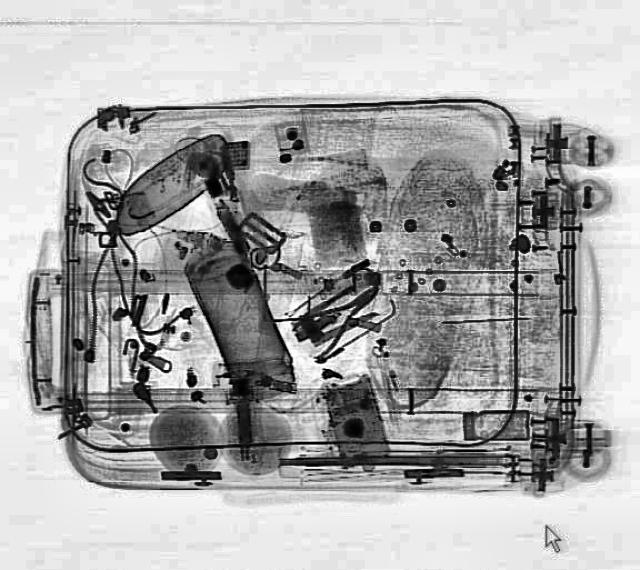Pliers: (280, 270, 392, 360)
